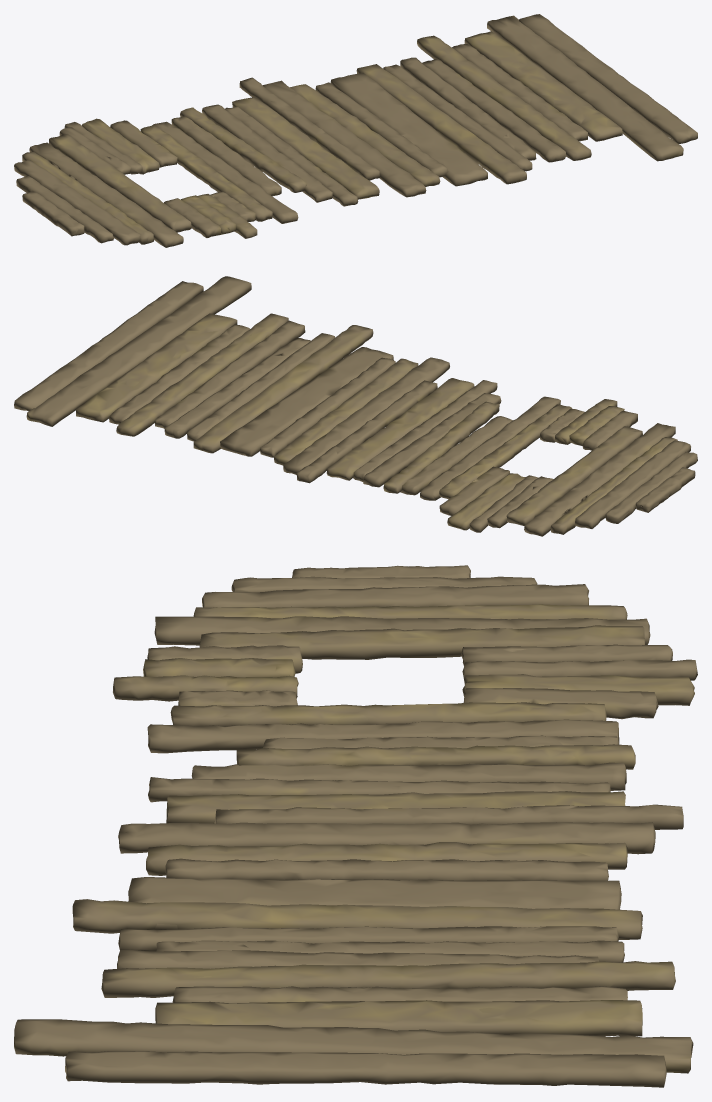
The model's file is Floor01.fbx.
3 renders of one model, top to bottom at view 1: azimuth 30°, elevation 25°; view 2: azimuth 150°, elevation 25°; view 3: azimuth 270°, elevation 25°, orthographic. The views are drawn at different scales.
Parts seen in each view (by area): view 1: Floor01; view 2: Floor01; view 3: Floor01.
Part boxes in pixels (left/top/right/bottom): Floor01: left=14, top=14, right=697, bottom=247; Floor01: left=14, top=276, right=697, bottom=536; Floor01: left=14, top=565, right=697, bottom=1087.
Bounding box in the file's own units: 740 × 20.01 × 416.
